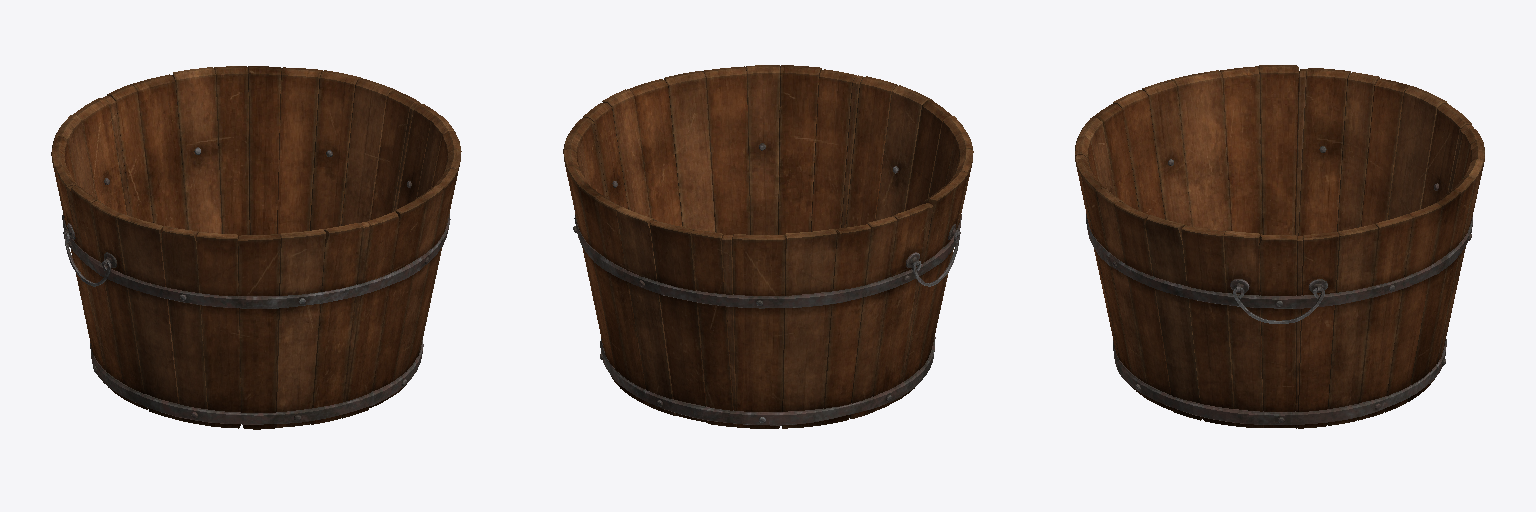
The picture shows the model from 3 angles: view 1: azimuth 30°, elevation 25°; view 2: azimuth 150°, elevation 25°; view 3: azimuth 270°, elevation 25°; orthographic projection.
Parts seen in each view (by area): view 1: wooden_bucket_02_Plane.002; view 2: wooden_bucket_02_Plane.002; view 3: wooden_bucket_02_Plane.002, wooden_bucket_02_handle_02_Plane.003.
Boxes of the visible parts, x1=… form: wooden_bucket_02_Plane.002: x1=51, y1=66, x2=461, y2=429; wooden_bucket_02_Plane.002: x1=563, y1=65, x2=973, y2=428; wooden_bucket_02_Plane.002: x1=1075, y1=65, x2=1484, y2=428; wooden_bucket_02_handle_02_Plane.003: x1=1233, y1=287, x2=1324, y2=323.
Size of the model in its own units: 0.6153 by 0.3504 by 0.6163.
Materials: 1 (1 with a texture image).